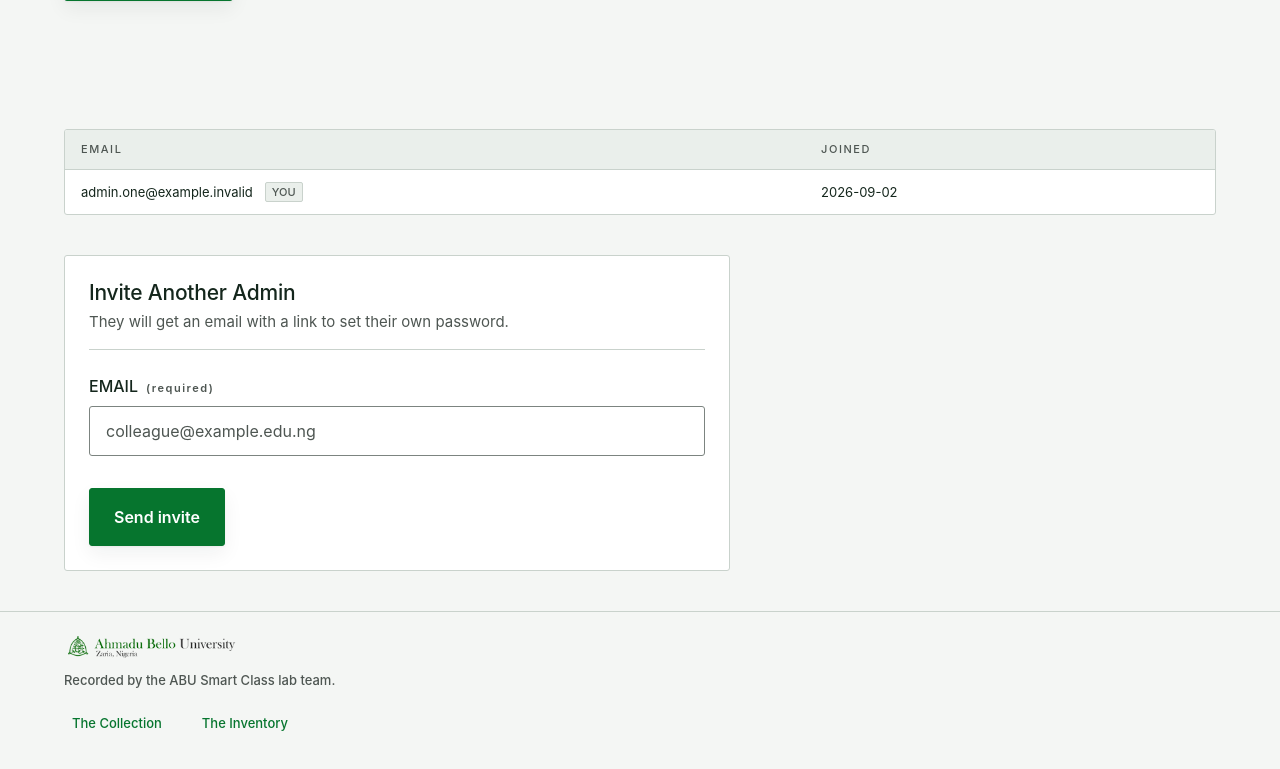
Test: app/admin/admins/page (S-008) › submits invite form, increments PENDING count on 201 success
(page scrolled)
Expected: the text "admin.one@example.invalid" is shown, [81, 183, 253, 201]
In the field with placeholder "colleague@example.edu.ng": [397, 431] box [89, 406, 705, 456], type "admin.five@example.invalid"
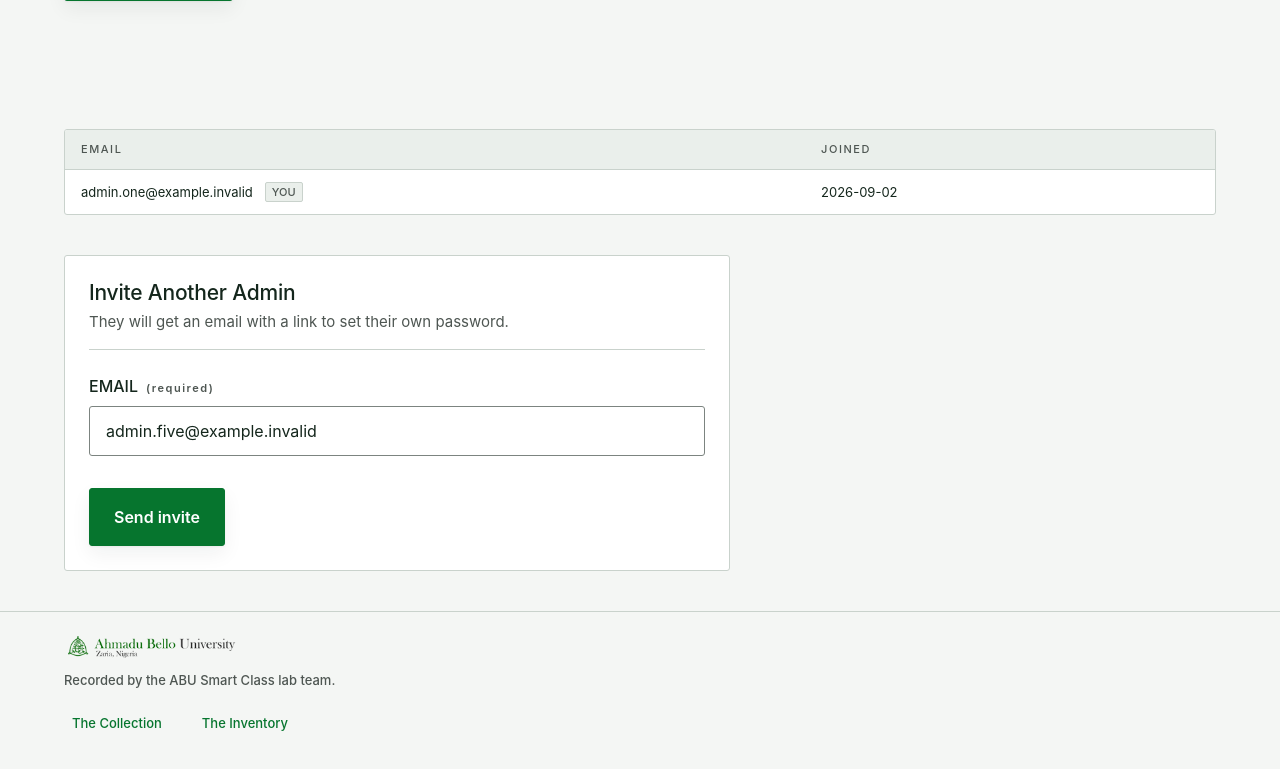
Click the button "Send invite": [157, 517] box [89, 488, 225, 546]
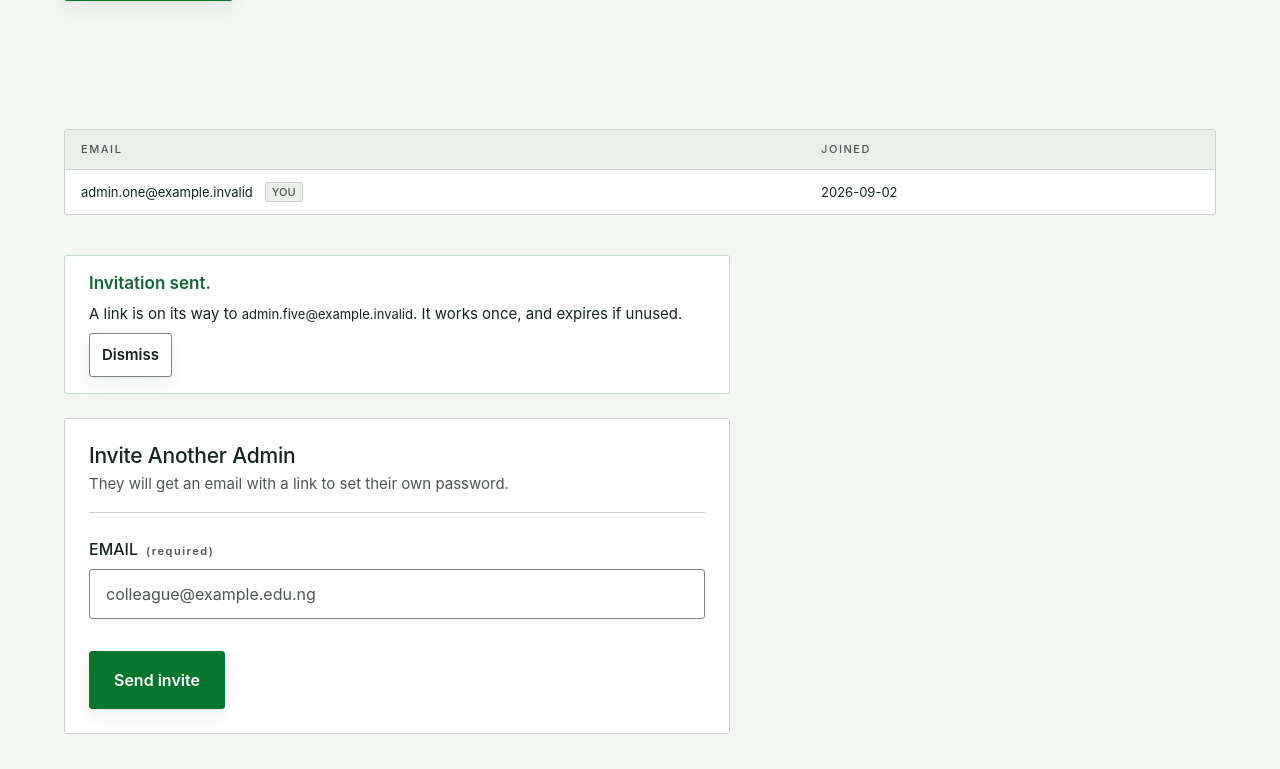
Expected: the heading "Invitation sent." is shown, [89, 273, 211, 293]
